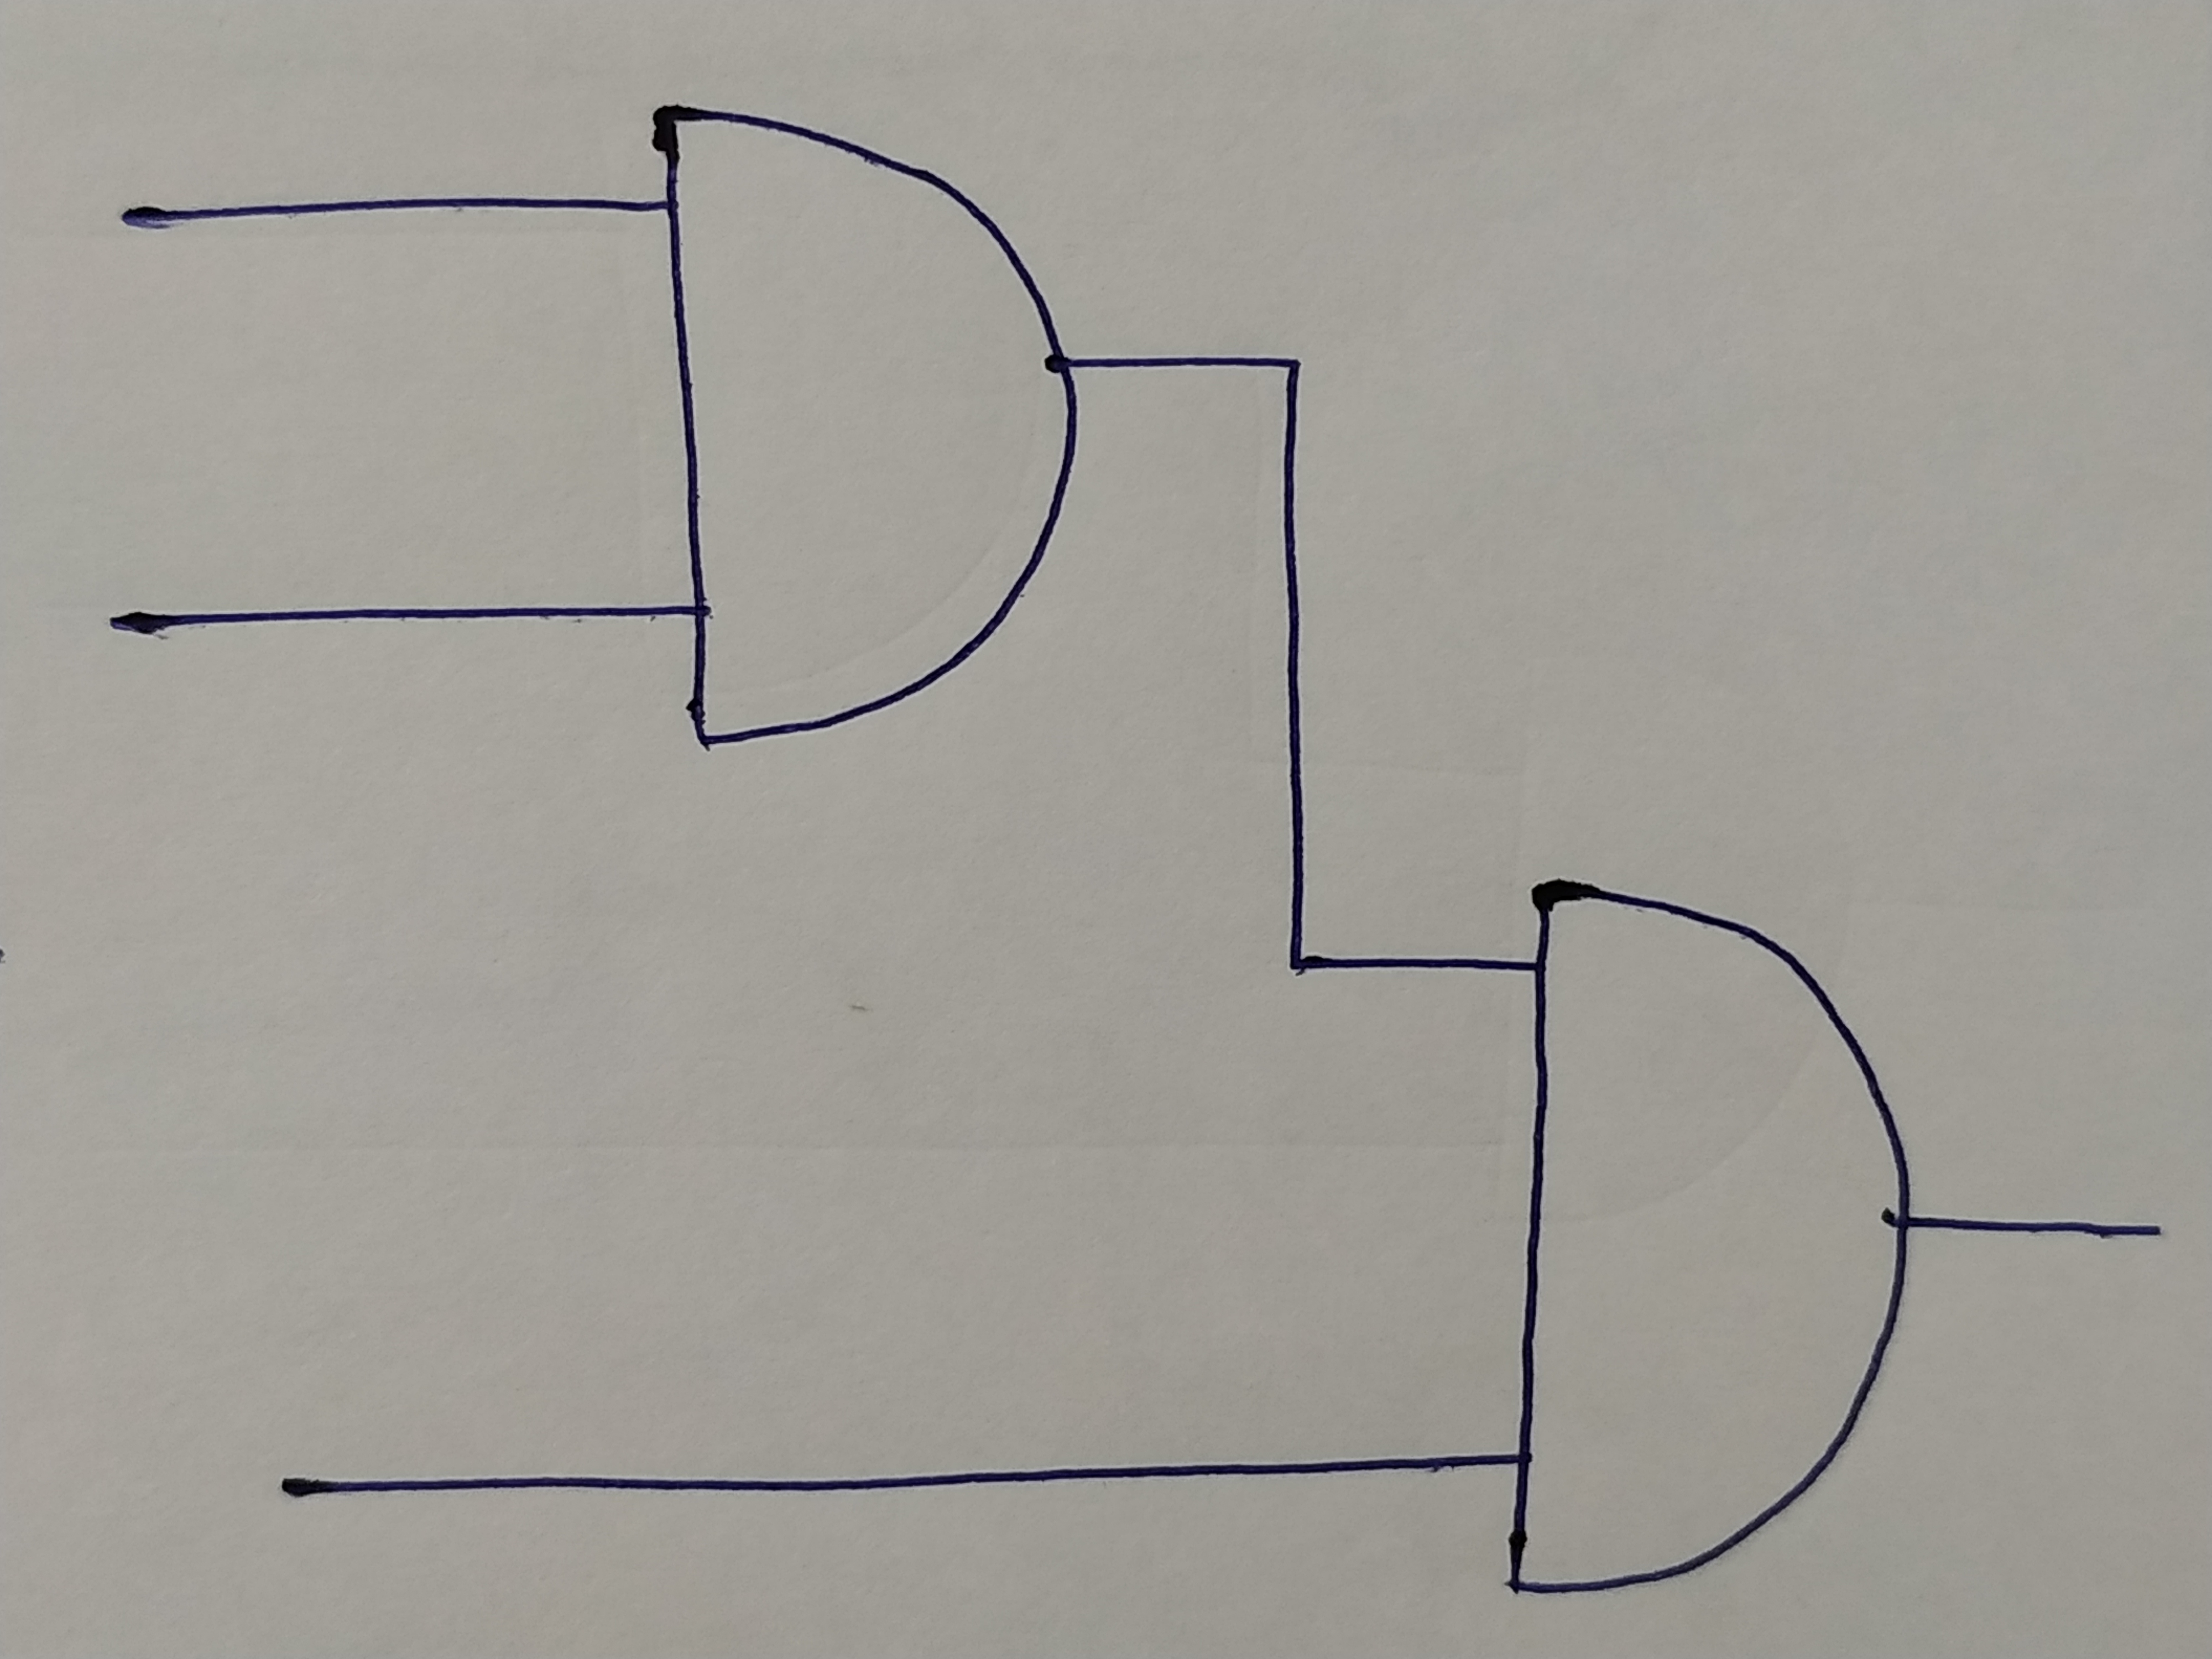and: (1508, 875, 1898, 1600), (658, 101, 1075, 742)
